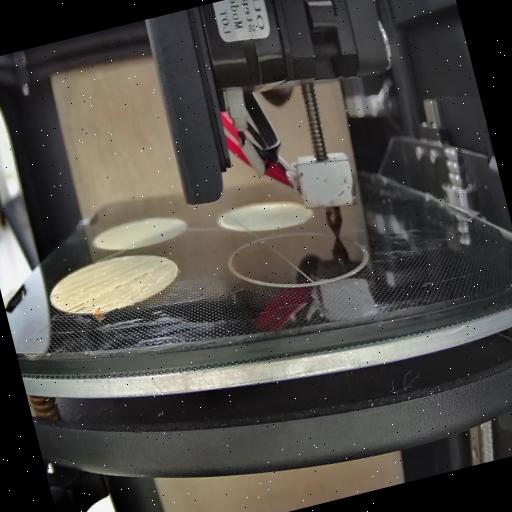under_extrusion: (111, 262, 171, 292), (68, 296, 96, 319), (97, 300, 115, 316), (48, 292, 62, 304)
